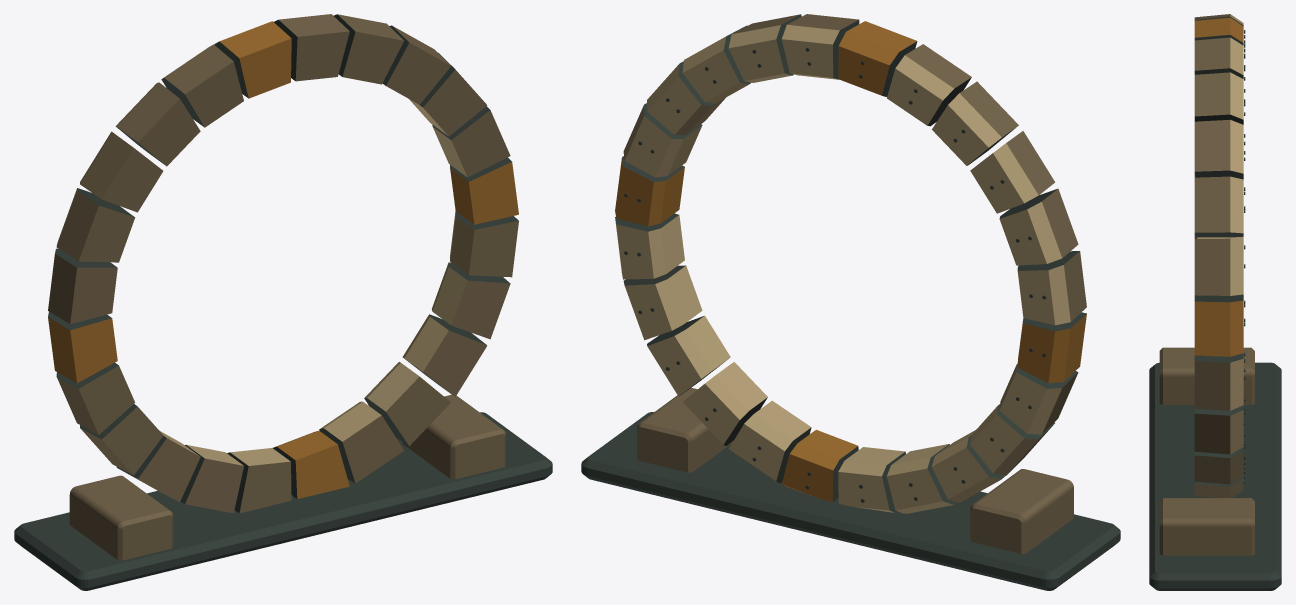
File: portal_ring.obj
The picture shows the model from 3 angles, left to right: view 1: azimuth 30°, elevation 25°; view 2: azimuth 150°, elevation 25°; view 3: azimuth 270°, elevation 25°; orthographic projection. The views are drawn at different scales.
Visible parts, largest first — view 1: segment_ivory_dark, platform, segment_brass, support, segment_ivory, joint; view 2: segment_ivory, platform, segment_brass, support, joint, segment_ivory_dark, gate_fasteners; view 3: platform, segment_ivory_dark, support, segment_ivory, segment_brass, joint, gate_fasteners.
Boxes of the visible parts, <box> form: segment_ivory_dark: <box>48,14,518,513</box>; platform: <box>14,412,552,590</box>; segment_brass: <box>48,21,518,498</box>; support: <box>69,394,505,560</box>; segment_ivory: <box>57,45,474,465</box>; joint: <box>48,14,518,513</box>; segment_ivory: <box>615,24,1070,513</box>; platform: <box>581,412,1120,590</box>; segment_brass: <box>615,21,1086,501</box>; support: <box>637,387,1073,553</box>; joint: <box>615,14,1086,512</box>; segment_ivory_dark: <box>732,14,1086,473</box>; gate_fasteners: <box>624,47,1046,502</box>; platform: <box>1149,362,1281,590</box>; segment_ivory_dark: <box>1194,14,1230,497</box>; support: <box>1159,347,1254,555</box>; segment_ivory: <box>1197,14,1243,497</box>; segment_brass: <box>1194,17,1243,356</box>; joint: <box>1194,16,1243,497</box>; gate_fasteners: <box>1244,30,1245,483</box>.
Size of the model in its own units: 6.15 by 5.99 by 1.6.
